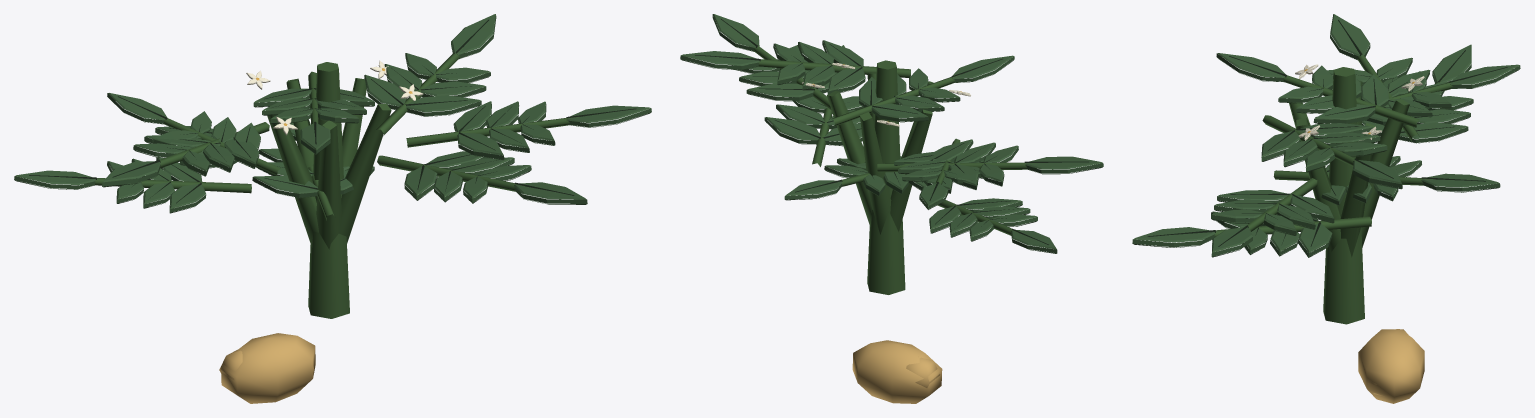
Rendered from potato.m1.glb.
3 renders of one model, left to right at view 1: azimuth 30°, elevation 25°; view 2: azimuth 150°, elevation 25°; view 3: azimuth 270°, elevation 25°, orthographic. The views are drawn at different scales.
Visible parts, largest first — view 1: cropLeafInstances, cropStemInstances, cropFruitInstances, cropBloomInstances; view 2: cropLeafInstances, cropStemInstances, cropFruitInstances; view 3: cropLeafInstances, cropStemInstances, cropFruitInstances, cropBloomInstances.
Boxes of the visible parts, x1=… form: cropLeafInstances: x1=14, y1=14, x2=651, y2=220; cropStemInstances: x1=267, y1=62, x2=391, y2=318; cropFruitInstances: x1=219, y1=333, x2=315, y2=403; cropBloomInstances: x1=246, y1=60, x2=423, y2=135; cropLeafInstances: x1=680, y1=14, x2=1103, y2=253; cropStemInstances: x1=827, y1=60, x2=933, y2=294; cropFruitInstances: x1=852, y1=340, x2=942, y2=403; cropLeafInstances: x1=1132, y1=14, x2=1520, y2=257; cropStemInstances: x1=1288, y1=67, x2=1409, y2=324; cropFruitInstances: x1=1358, y1=329, x2=1424, y2=403; cropBloomInstances: x1=1295, y1=64, x2=1424, y2=140.
Size of what is drawn, in the model's own units: 1.79 by 1.15 by 1.19.
